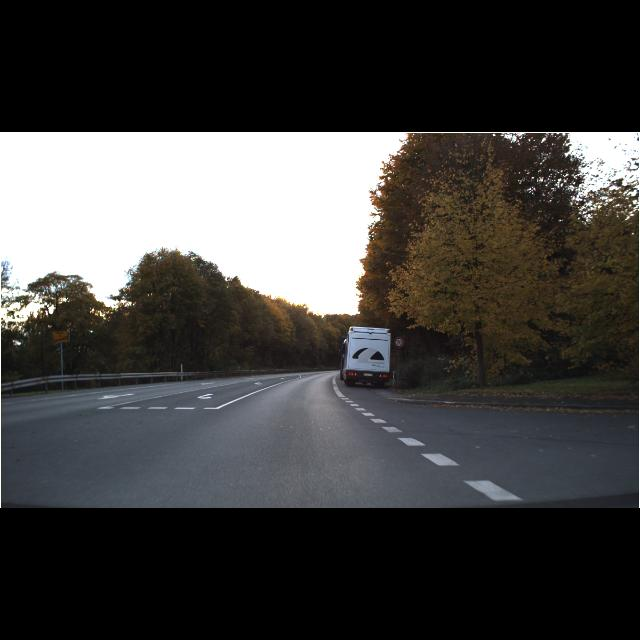prohibitory: (394, 337, 404, 348)
